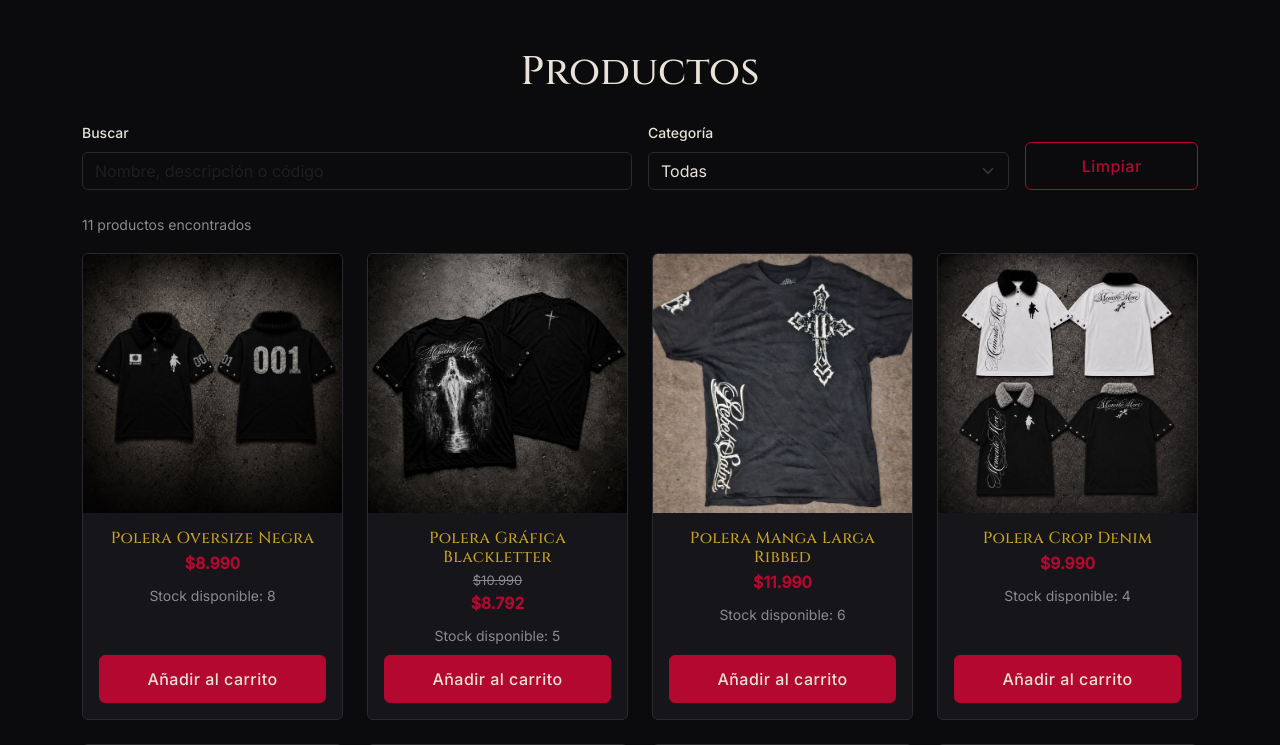
Test: Productos (lista y filtros) › al elegir una categoría en el select la lista se actualiza
The width and height of the screenshot is (1280, 745).
Select "Calzado" in the dropdown labelled "Categoría" at (829, 171), box [648,152,1009,190]
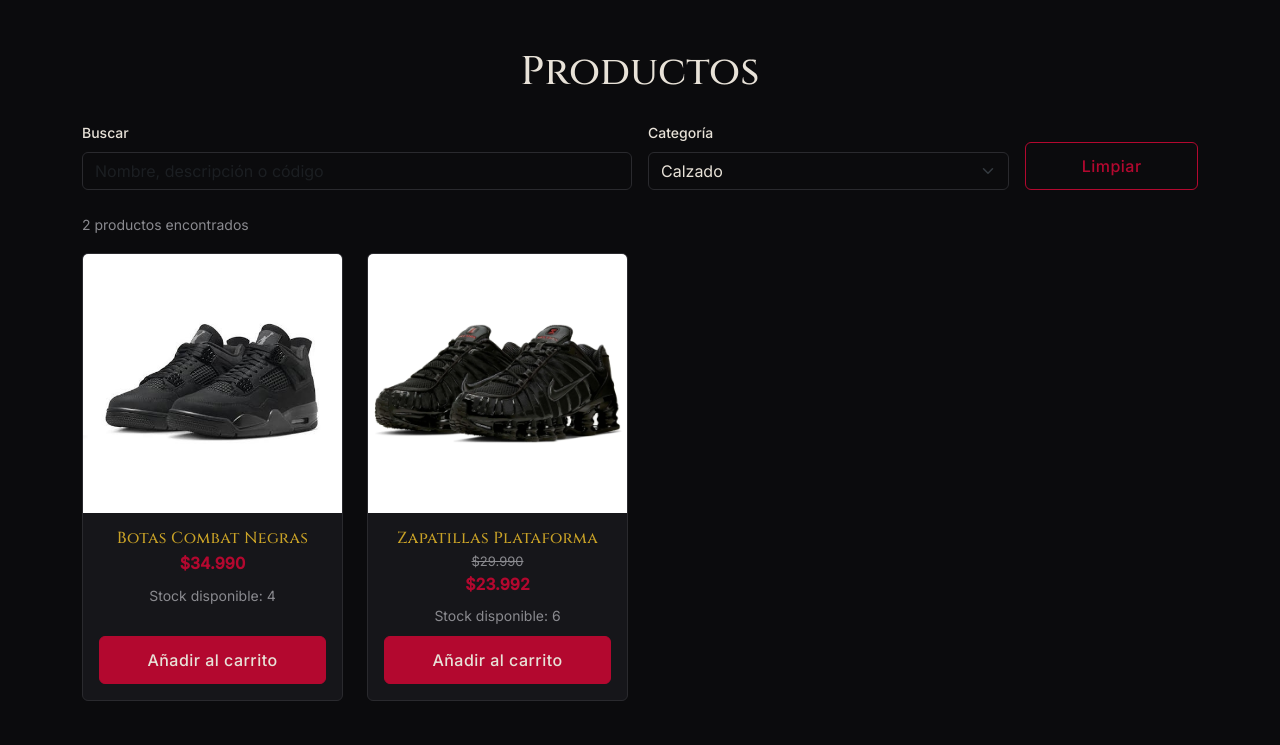
Expected: the number of elements with class "card-producto" is 2, [82,253,343,701]; [367,253,628,701]
